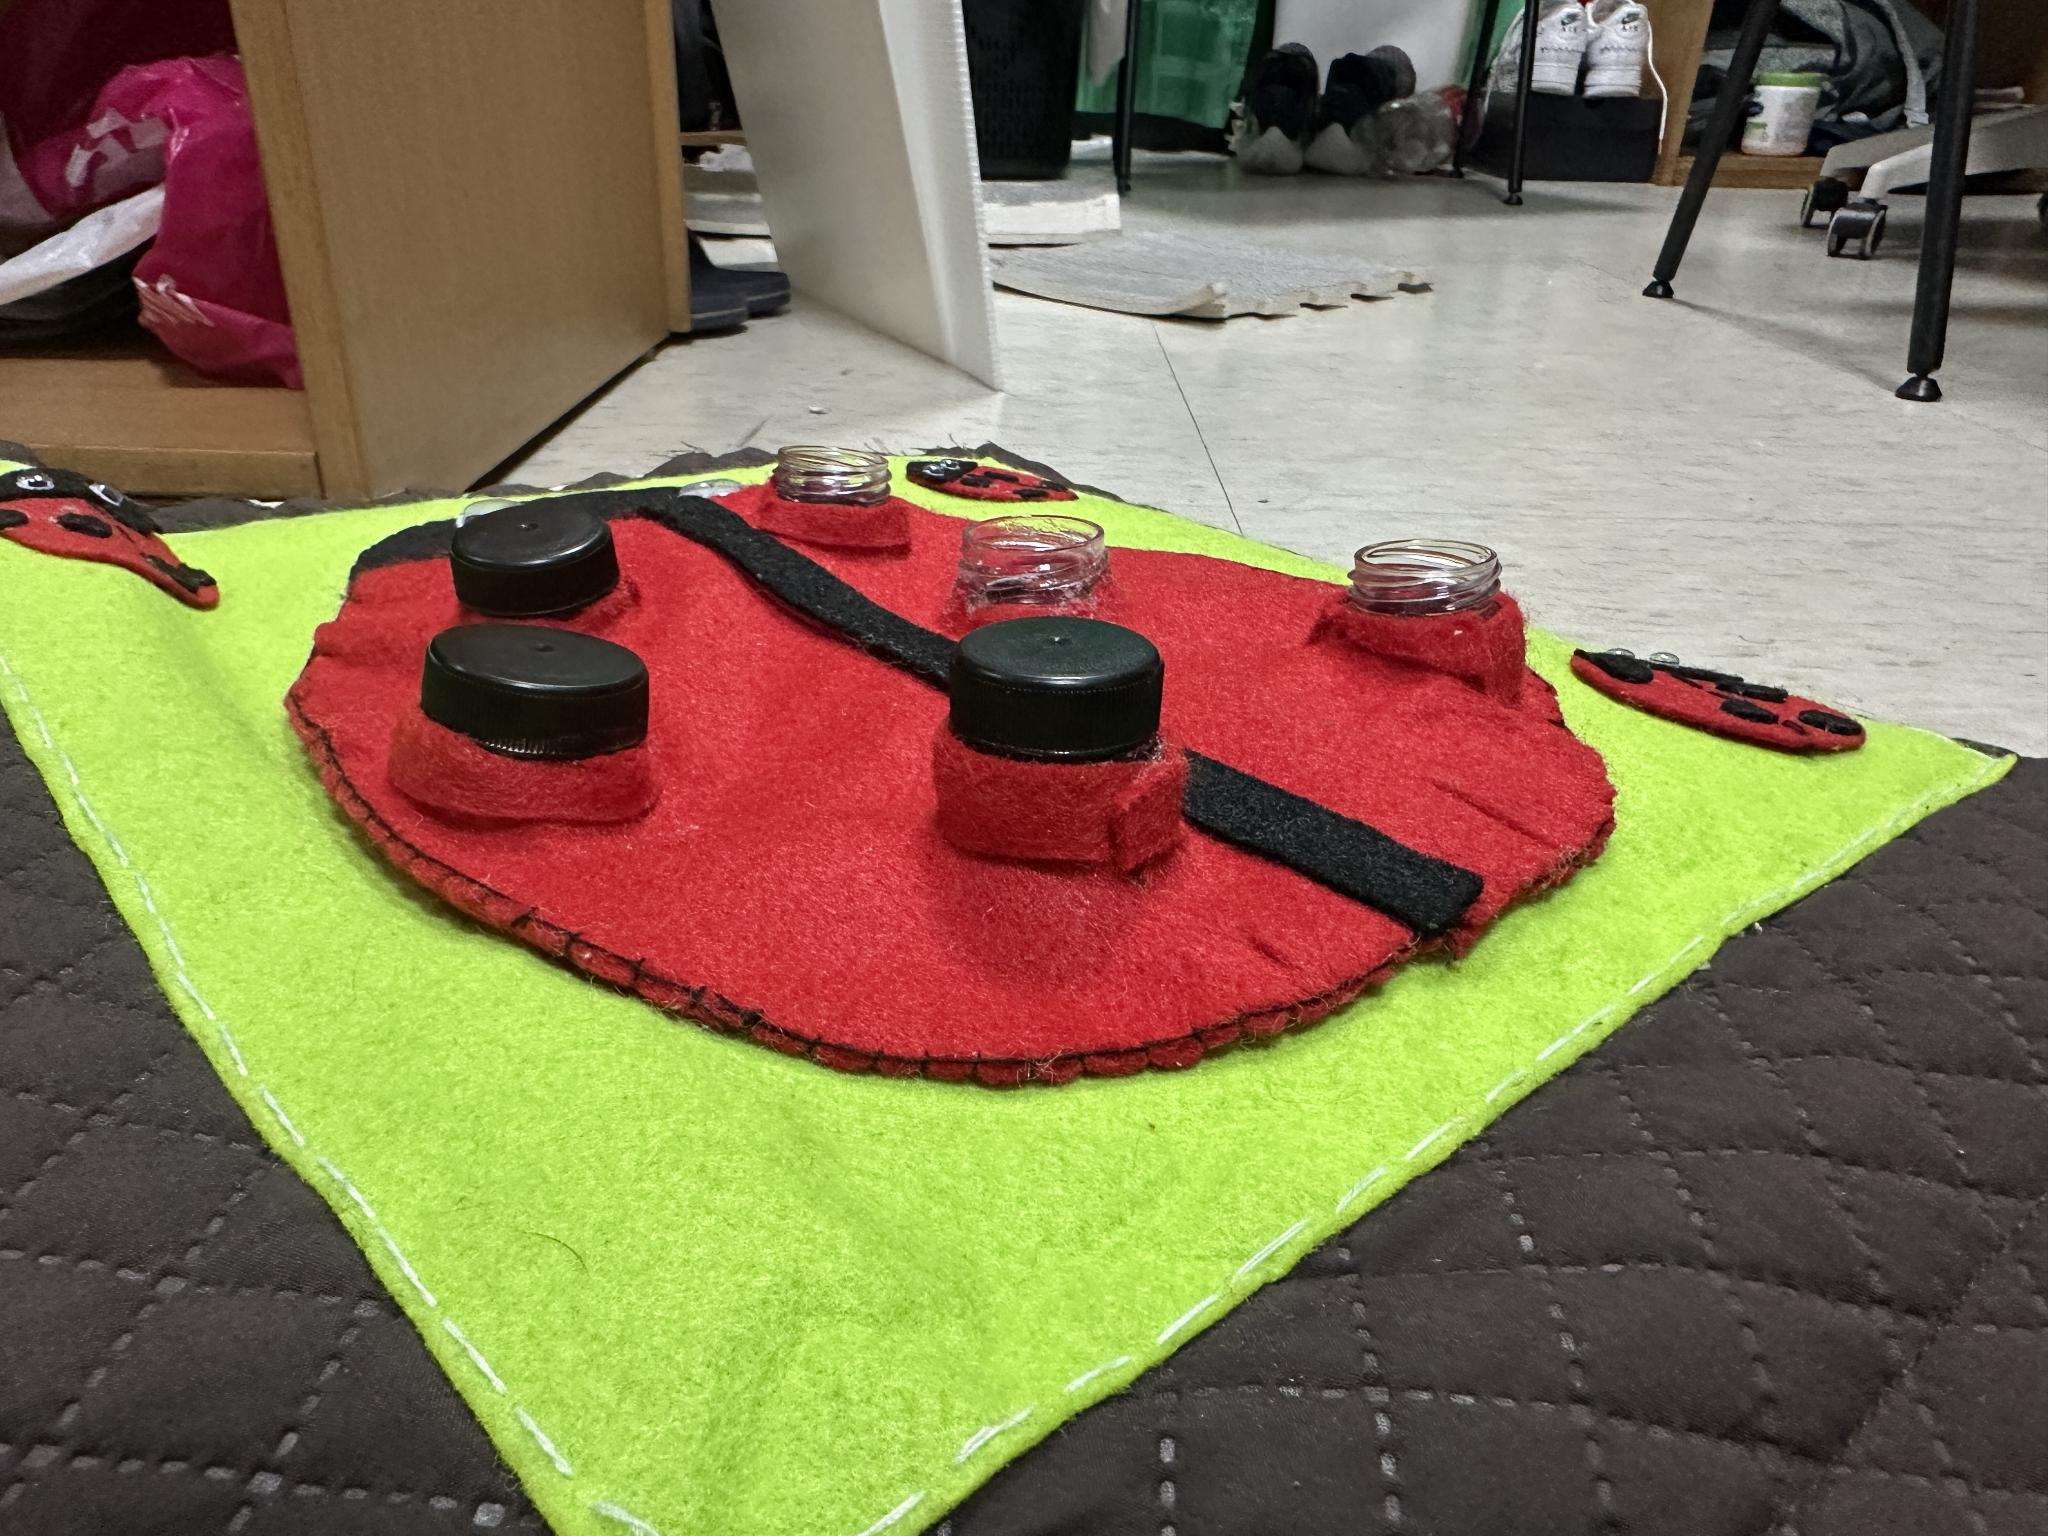cap_ok: (924, 610, 1203, 857), (397, 608, 685, 836), (424, 478, 655, 628)
